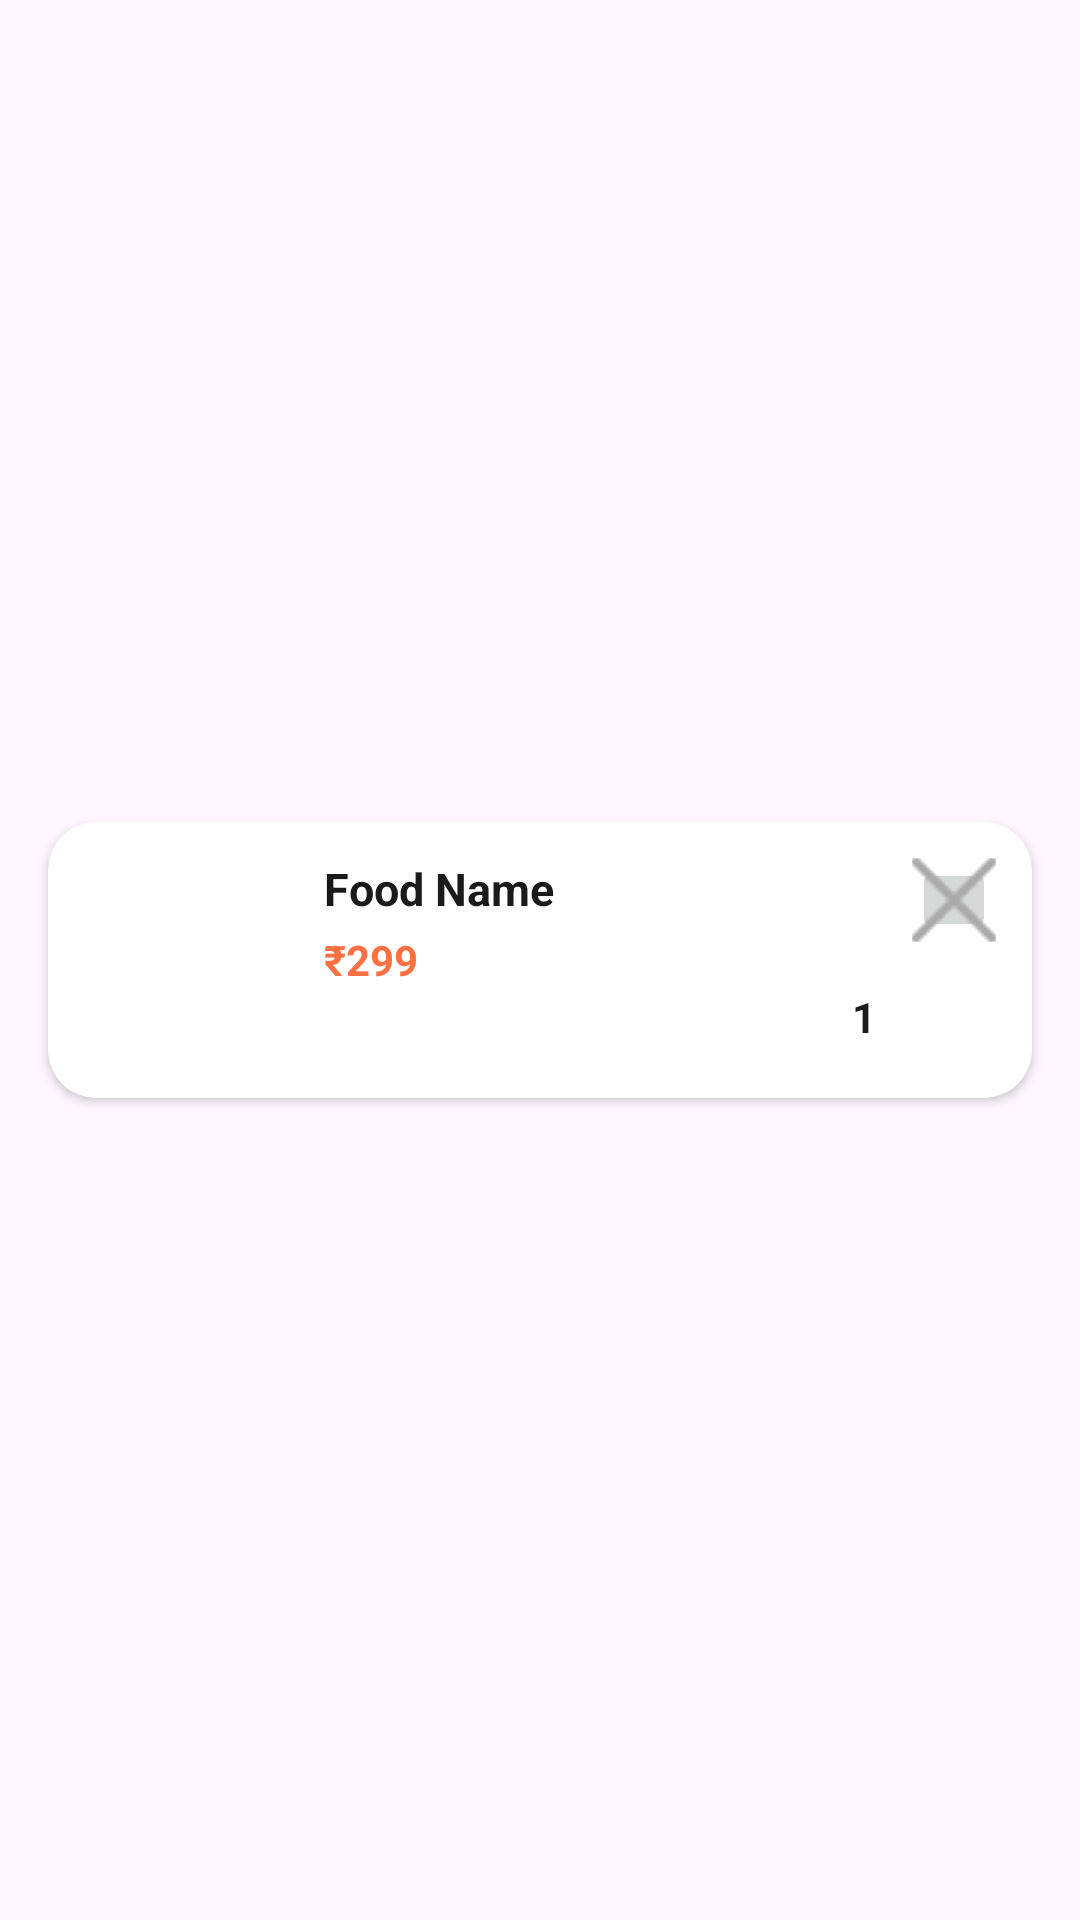

Icons on this 1080px×1920px Android screen, each with the point to tap as point (x, y):
cross: point (954, 900)
